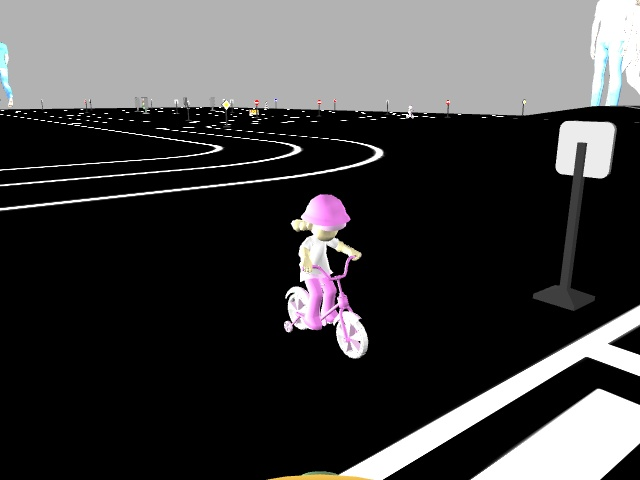Pedestrian: (271, 187, 372, 361)
